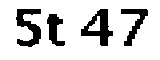4: (77, 7, 117, 52)
5: (9, 4, 44, 49)
7: (118, 5, 151, 52)
t: (45, 12, 73, 51)
